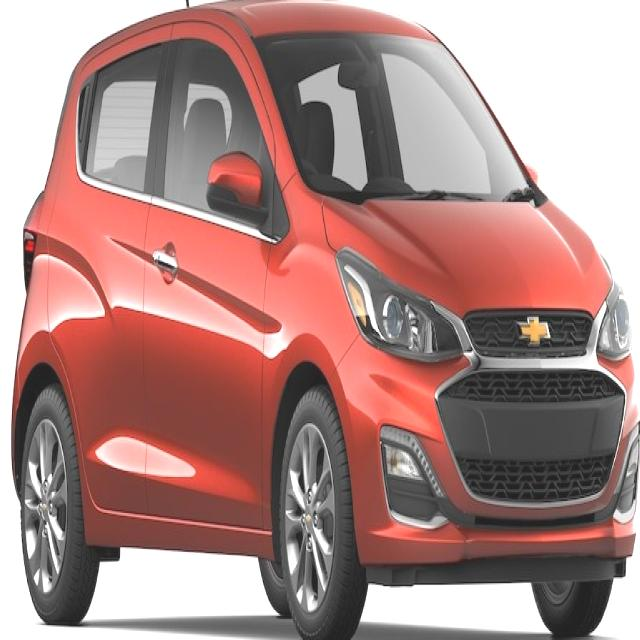maroon: (12, 4, 632, 592)
